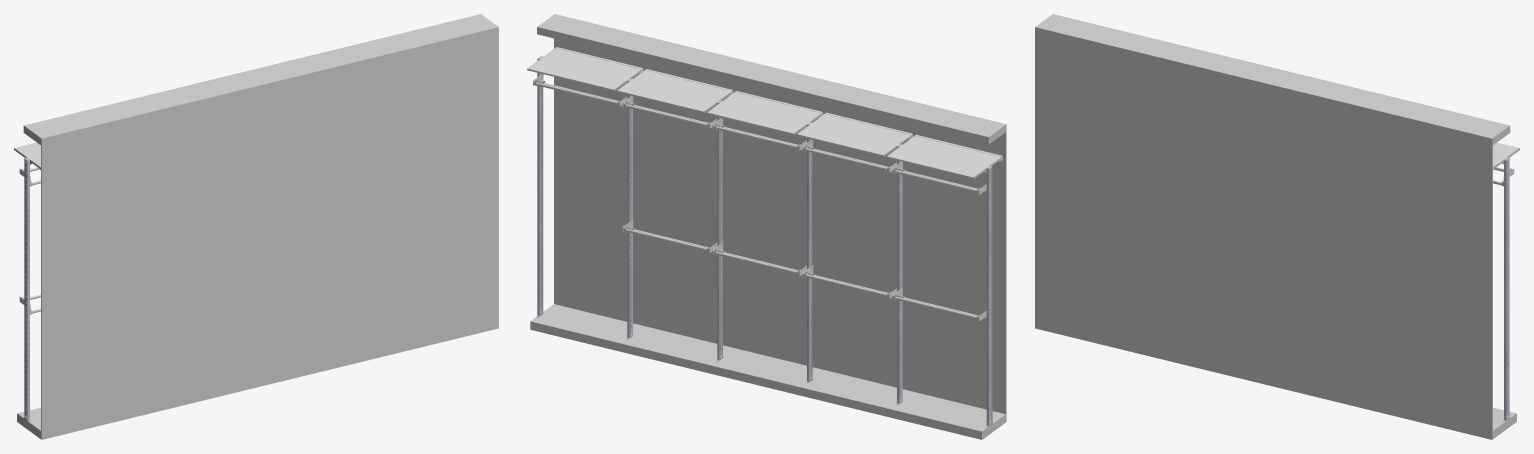
3 views of the same model, side by side, from view 1: azimuth 30°, elevation 25°; view 2: azimuth 150°, elevation 25°; view 3: azimuth 330°, elevation 25° (orthographic).
Parts seen in each view (by area): view 1: Geom3D_, Geom3D_组件#2; view 2: Geom3D_, Geom3D_组件#16 (×5), Geom3D_组件#2 (×6), Geom3D_组件#11_双衣杆 copy 002 (×9); view 3: Geom3D_, Geom3D_组件#2.
Part boxes in pixels (x1,y1,x2,y2): Geom3D_: (17, 14, 498, 439); Geom3D_组件#2: (23, 157, 30, 421); Geom3D_: (530, 14, 1006, 439); Geom3D_组件#16 (×5): (527, 47, 1002, 178); Geom3D_组件#2 (×6): (536, 56, 993, 427); Geom3D_组件#11_双衣杆 copy 002 (×9): (533, 74, 986, 321); Geom3D_: (1035, 14, 1516, 439); Geom3D_组件#2: (1503, 157, 1510, 421).
Bounding box in the file's own units: 4.53 × 2.85 × 0.5216.
2 materials, 1 textured.
